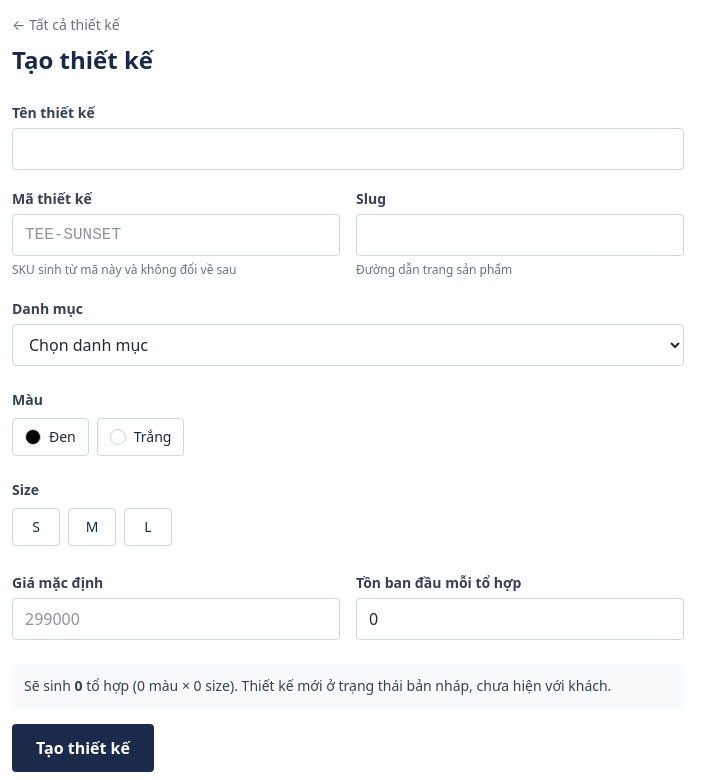
Scenario: AdminProductCreatePage › xem trước số tổ hợp sẽ sinh ra trước khi bấm tạo
What coordinates should you click on to do the following:
click the button "Đen"
I would click on:
 (50, 437)
Its box is x1=12 y1=418 x2=89 y2=456.
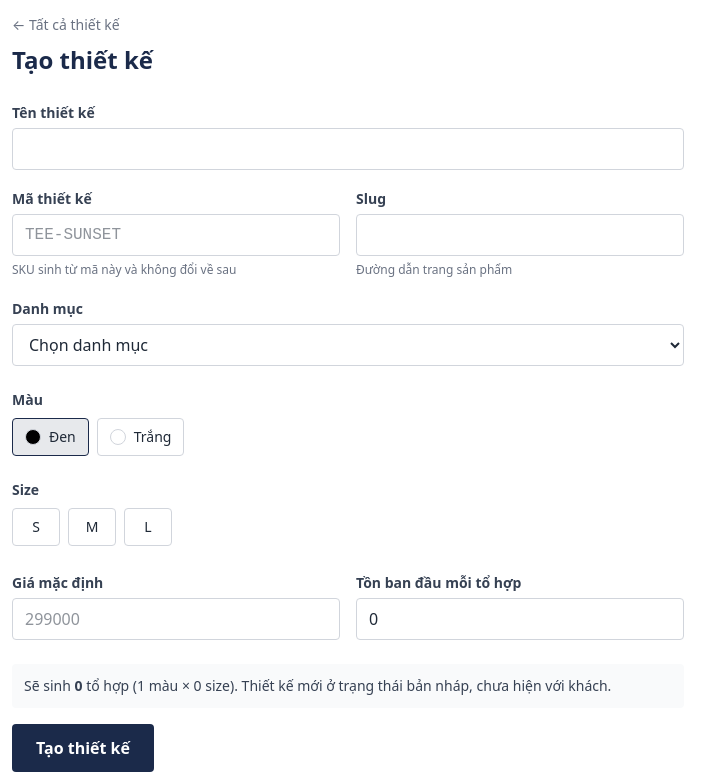
What coordinates should you click on to do the following:
click the button "Trắng"
I would click on:
 (141, 437)
Its box is x1=97 y1=418 x2=184 y2=456.
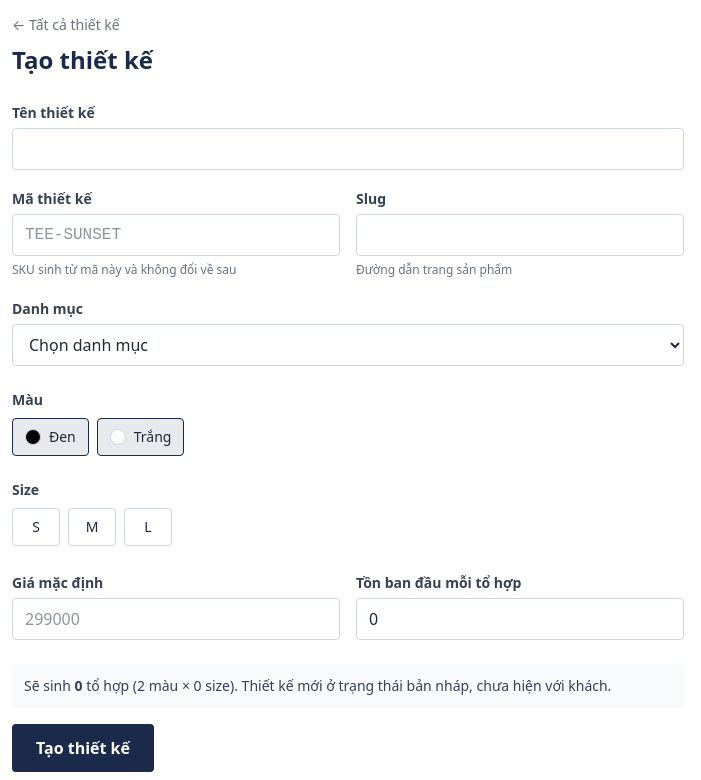
What coordinates should you click on to do the following:
click the button "S"
I would click on:
 (36, 527)
Its box is x1=12 y1=508 x2=60 y2=546.
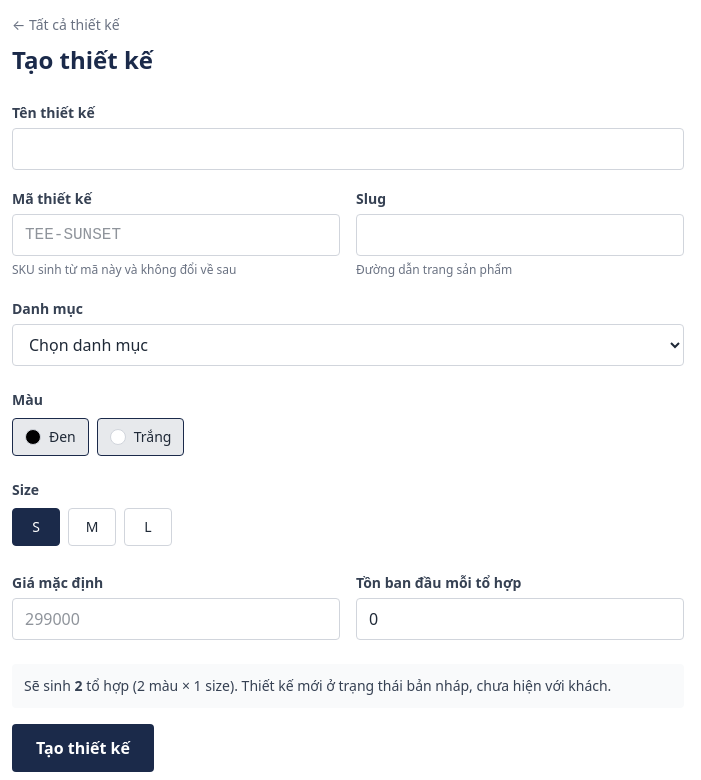
What coordinates should you click on to do the following:
click the button "M"
I would click on:
 (92, 527)
Its box is x1=68 y1=508 x2=116 y2=546.
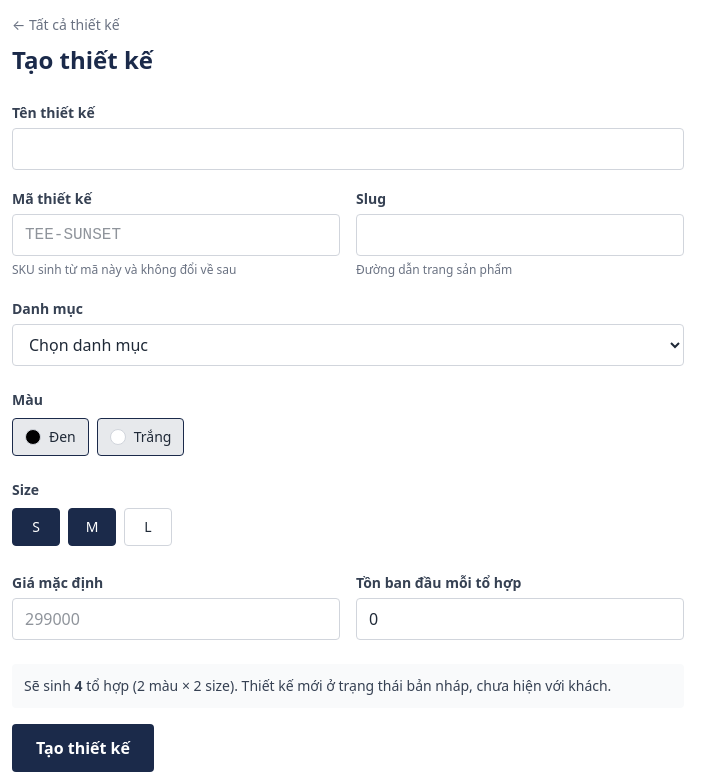
What coordinates should you click on to do the following:
click the button "L"
I would click on:
 (148, 527)
Its box is x1=124 y1=508 x2=172 y2=546.
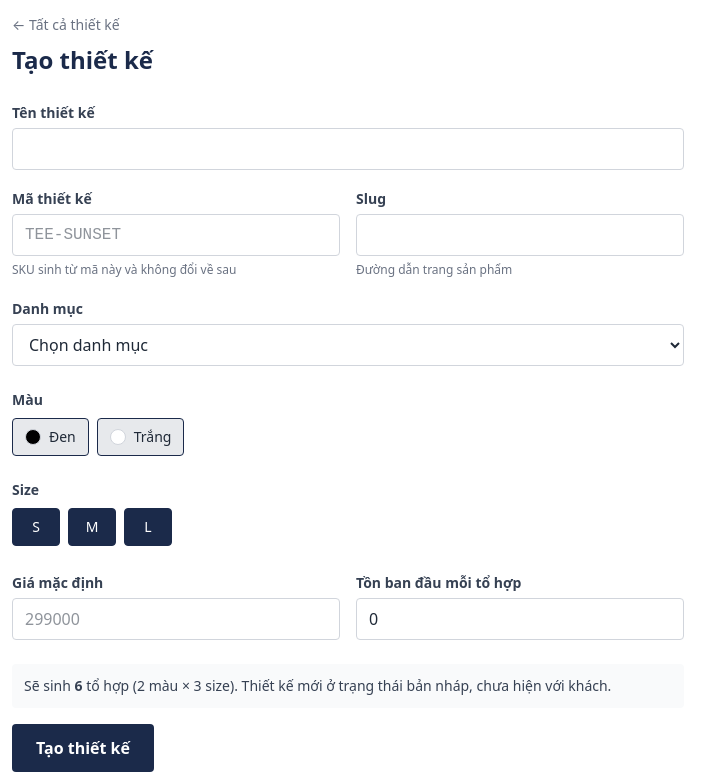
Now the text "Sẽ sinh 6 tổ hợp" is shown, box x1=12 y1=664 x2=684 y2=708
